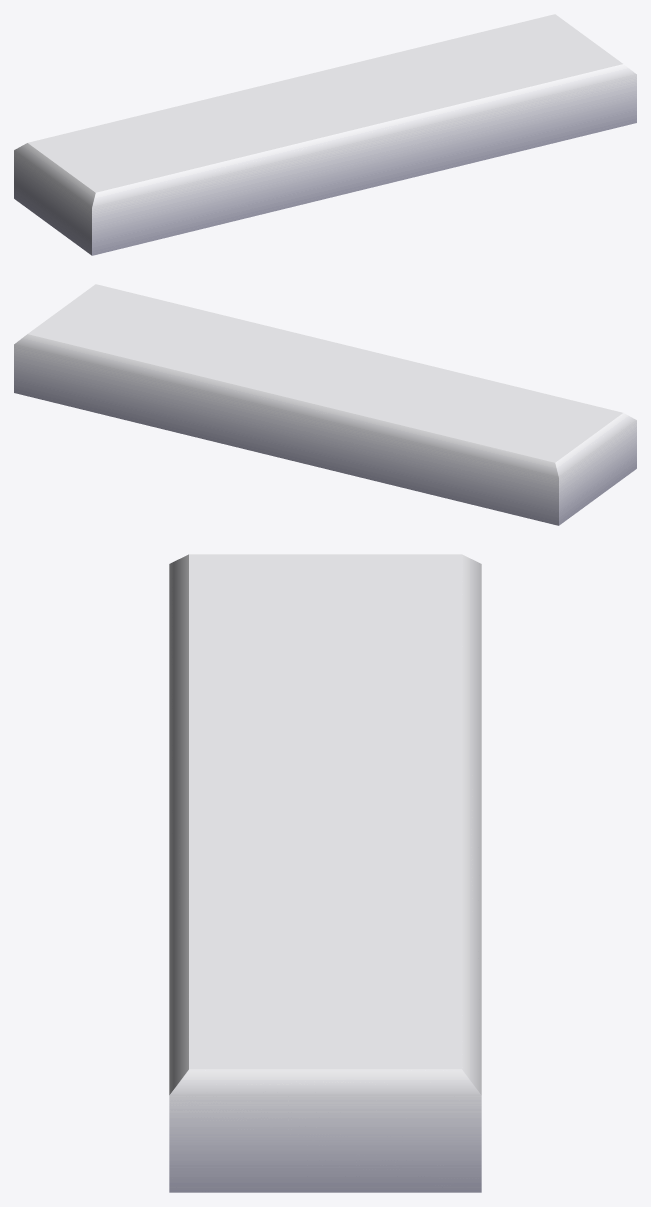
File: brick-kit--none-hq-plate-1x4.glb
3 views of the same model, one above another, from view 1: azimuth 30°, elevation 25°; view 2: azimuth 150°, elevation 25°; view 3: azimuth 270°, elevation 25° (orthographic). The views are drawn at different scales.
Parts seen in each view (by area): view 1: none-hq-plate-1x4; view 2: none-hq-plate-1x4; view 3: none-hq-plate-1x4.
Boxes of the visible parts, box(x1,y1,x2,y2) form: none-hq-plate-1x4: box(14, 14, 636, 255); none-hq-plate-1x4: box(14, 284, 636, 525); none-hq-plate-1x4: box(169, 554, 481, 1192).
Bounding box in the file's own units: 0.318 × 0.032 × 0.079.
1 material, 1 textured.
